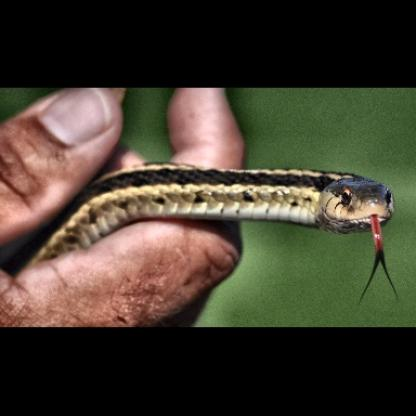Snake: (48, 159, 398, 274)
